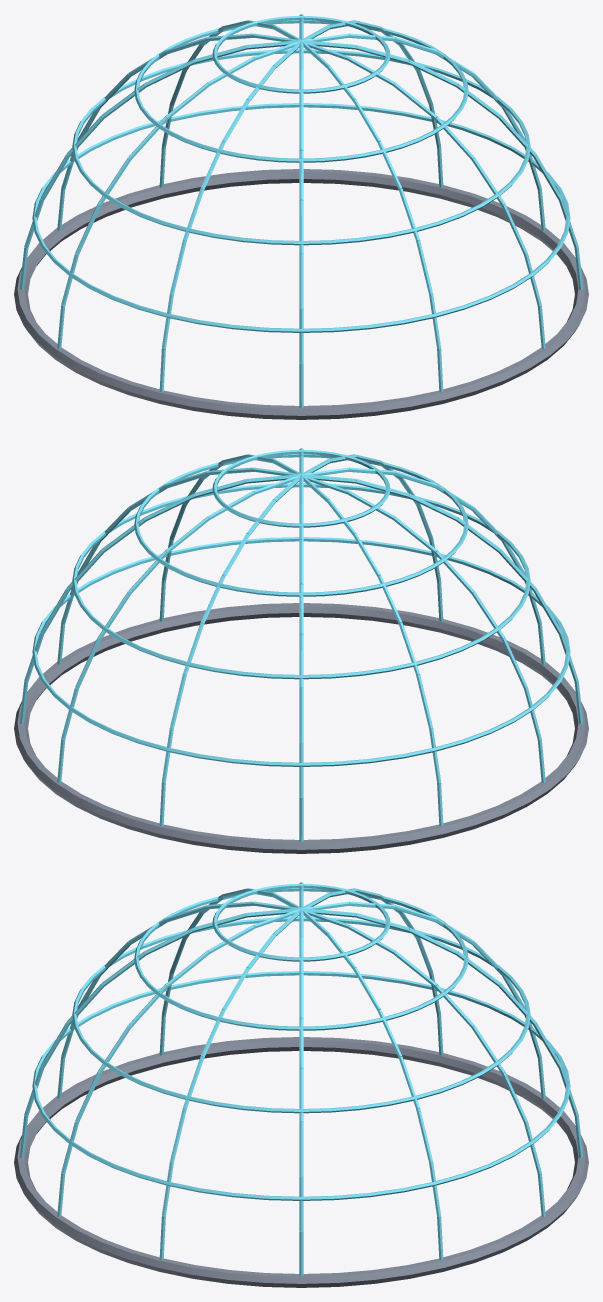
The model's file is schildkuppel.obj.
3 renders of one model, top to bottom at view 1: azimuth 30°, elevation 25°; view 2: azimuth 150°, elevation 25°; view 3: azimuth 270°, elevation 25°, orthographic.
Parts seen in each view (by area): view 1: schildkuppel_Koerper; view 2: schildkuppel_Koerper; view 3: schildkuppel_Koerper.
Boxes of the visible parts, box(x1,y1,x2,y2) form: schildkuppel_Koerper: box(14, 14, 588, 419); schildkuppel_Koerper: box(14, 448, 588, 853); schildkuppel_Koerper: box(14, 882, 588, 1287).
Bounding box in the file's own units: 12.3 × 6.13 × 12.3.
